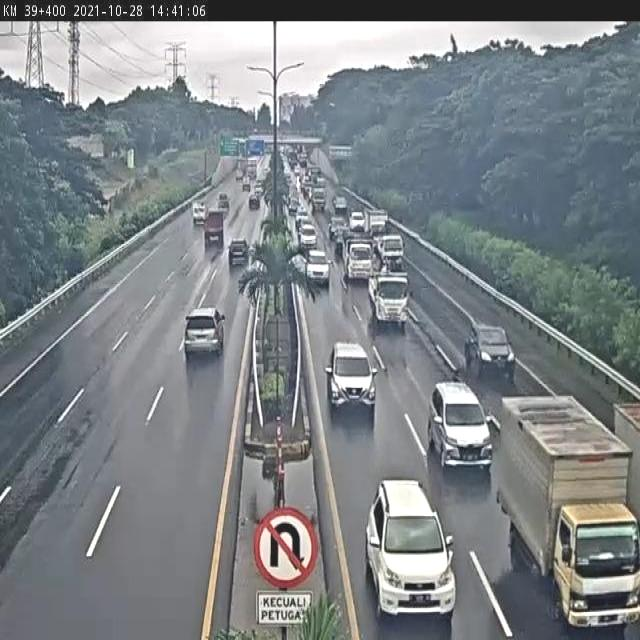Car: (366, 478, 455, 618), (428, 380, 493, 470), (325, 341, 377, 417), (464, 322, 517, 384), (184, 306, 226, 356), (304, 249, 331, 286), (328, 216, 349, 247), (228, 238, 249, 266), (298, 222, 317, 248), (349, 210, 366, 232)
Truck: (501, 399, 640, 634), (368, 272, 410, 331), (345, 239, 374, 282), (376, 233, 405, 270), (204, 210, 226, 246)
